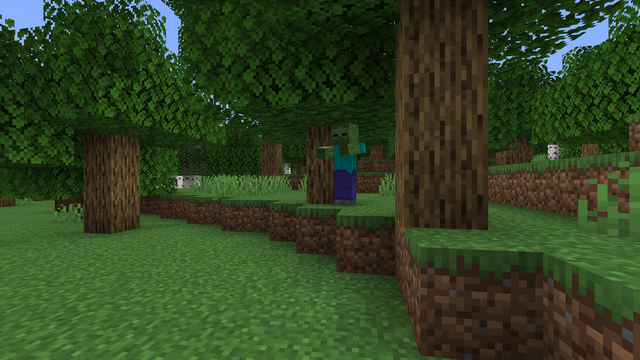zombies: (331, 124, 356, 205)
